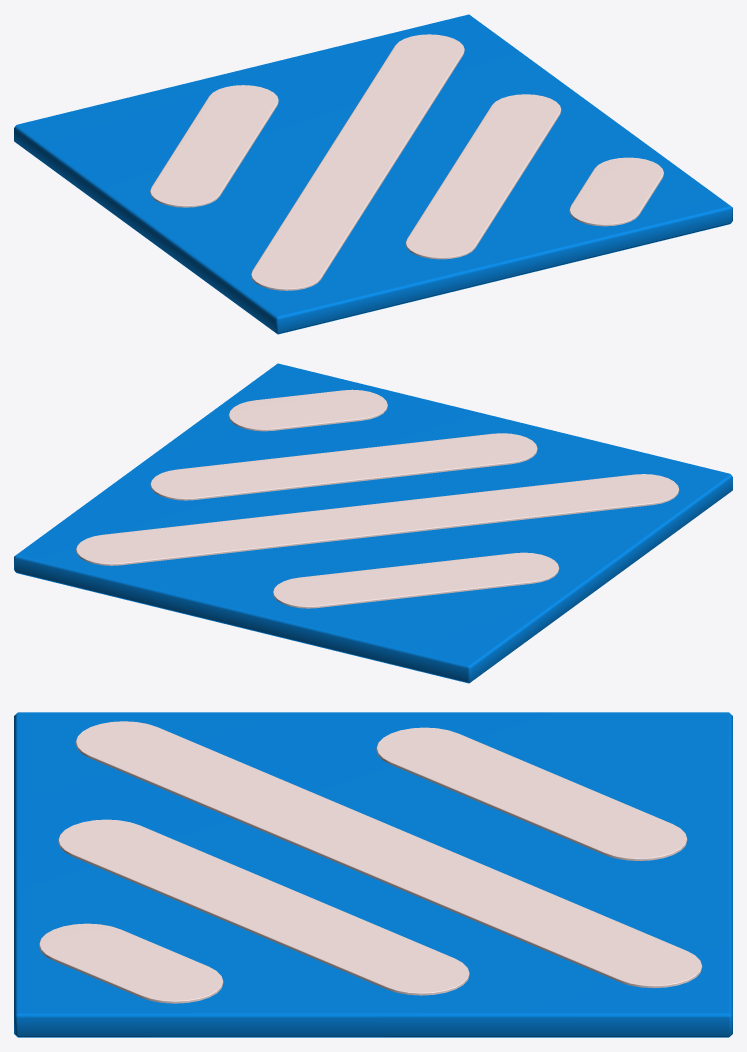
The model's file is Store_13_Vinyl_Box_2.glb.
3 views of the same model, one above another, from view 1: azimuth 30°, elevation 25°; view 2: azimuth 150°, elevation 25°; view 3: azimuth 270°, elevation 25° (orthographic). The views are drawn at different scales.
Parts seen in each view (by area): view 1: Store_13_Vinyl_Box_2; view 2: Store_13_Vinyl_Box_2; view 3: Store_13_Vinyl_Box_2.
Part boxes in pixels (left/top/right/bottom): Store_13_Vinyl_Box_2: left=14, top=14, right=732, bottom=334; Store_13_Vinyl_Box_2: left=14, top=363, right=732, bottom=683; Store_13_Vinyl_Box_2: left=14, top=712, right=732, bottom=1037.
Bounding box in the file's own units: 0.434 × 0.0185 × 0.434.
Materials: 1 (1 with a texture image).
